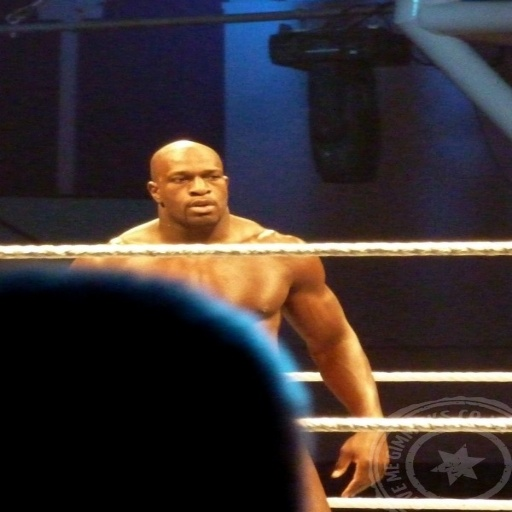hand: (337, 428, 400, 488)
